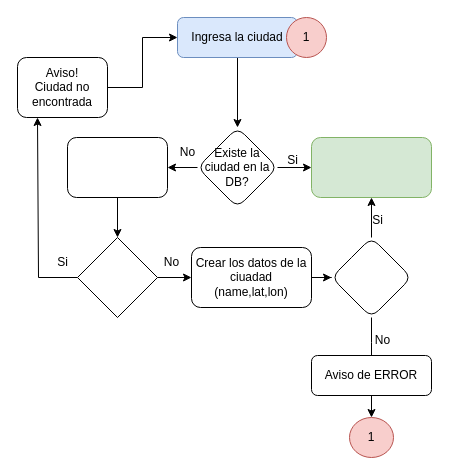
Image size: 449x475. Some labels were removed from this diagram. Here are the shapes that lost their labels. From the top down, the centre of each, then its label:
At pixel 117 167: "Buscar la ciudad en la API GEO".
At pixel 371 167: "Usar los datos de esa Ciudad".
At pixel 117 277: "Return Empty?".
At pixel 371 277: "Ciudad Creada?".
